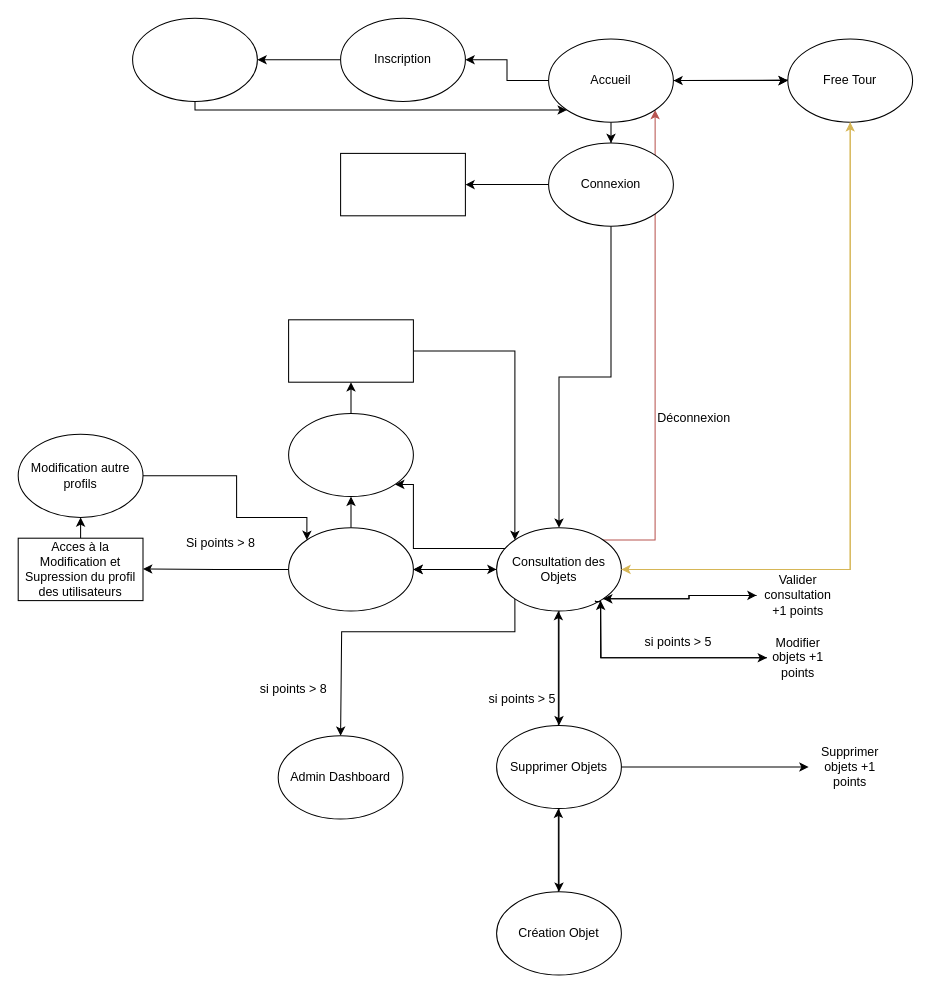
This 931x993 diagram has some shape labels left out. Each missing label, with the centre of its shape:
Liste des profils: the point at 350,569
Modifier Profile: the point at 350,454
Redirection: the point at 194,59
Traitement des Modifications: the point at 350,350
VerifConnexion: the point at 402,184
